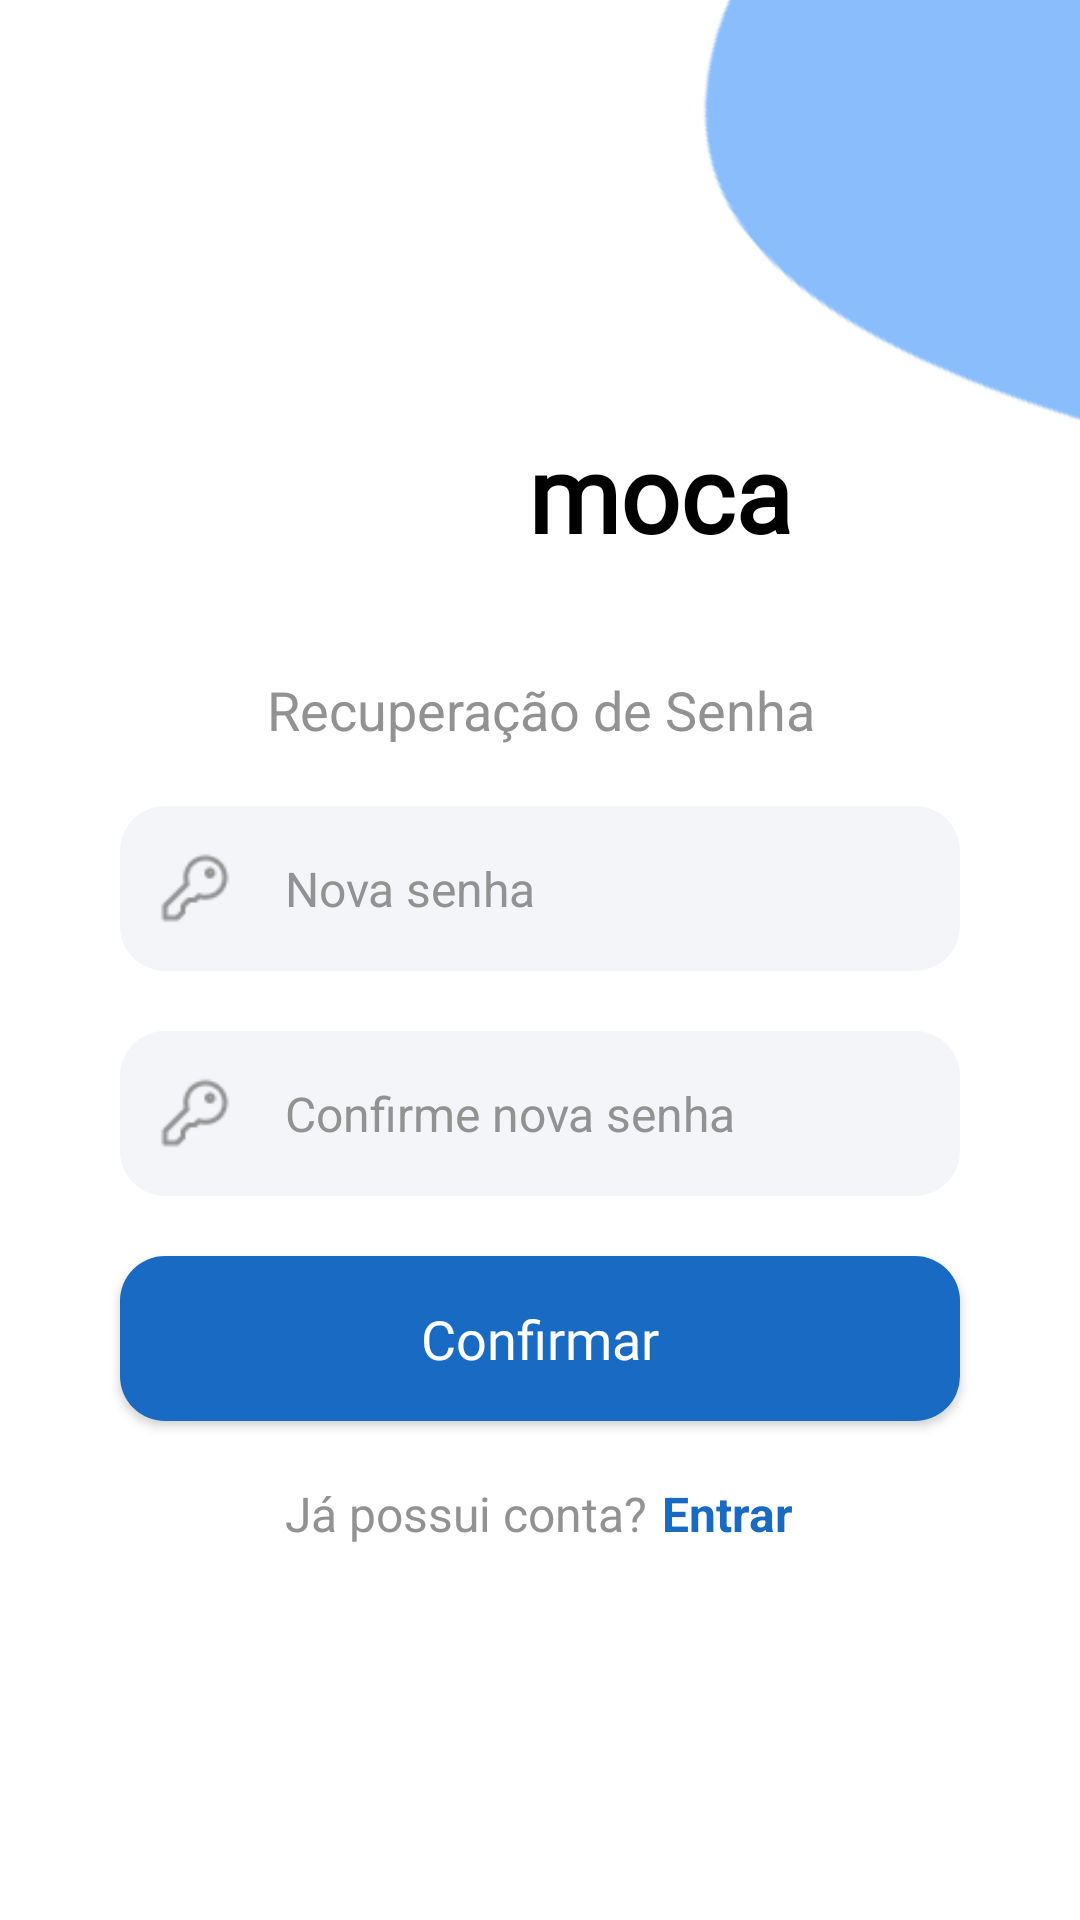

Icons on this 1080px x 1920px Android screen, each with its box as detection(x1, y1, x2, y2):
chave: detection(161, 854, 229, 922), detection(161, 1079, 229, 1147)
